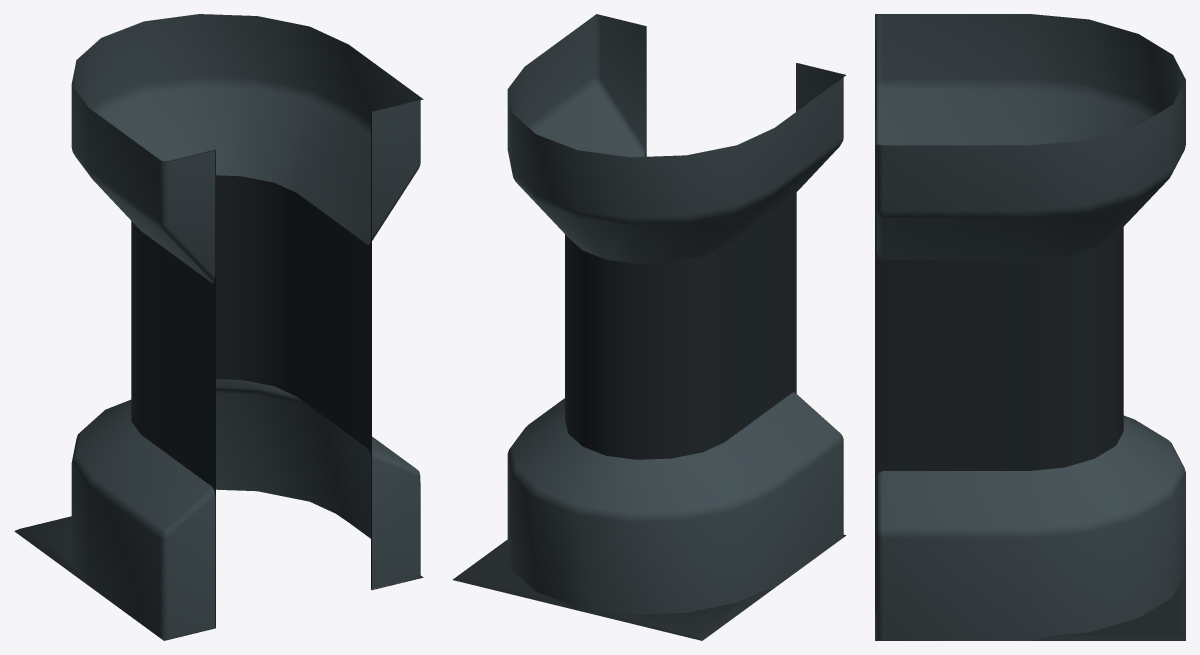
The model's file is wallSmallTurn180.fbx.
3 renders of one model, left to right at view 1: azimuth 30°, elevation 25°; view 2: azimuth 150°, elevation 25°; view 3: azimuth 270°, elevation 25°, orthographic. The views are drawn at different scales.
Parts seen in each view (by area): view 1: wallSmallTurn180; view 2: wallSmallTurn180; view 3: wallSmallTurn180.
Part boxes in pixels (x1,y1,x2,y2): wallSmallTurn180: (14,14,423,640); wallSmallTurn180: (452,14,846,640); wallSmallTurn180: (875,14,1185,640).
Bounding box in the file's own units: 2 × 2 × 3.52.
